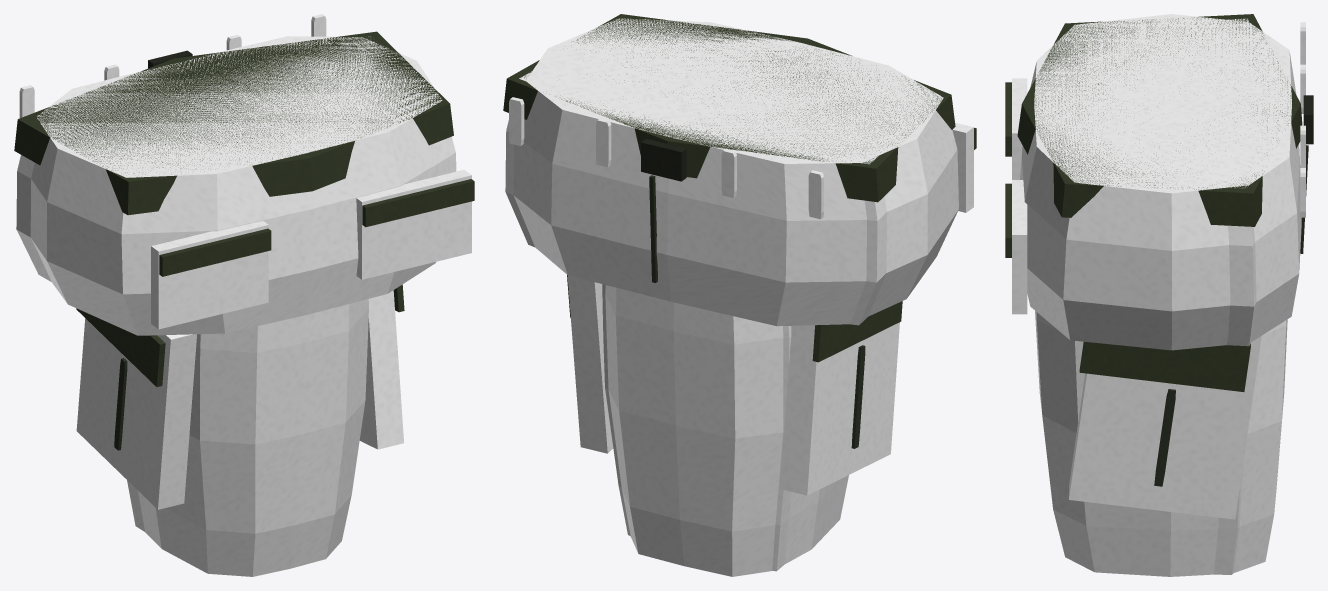
Rendered from trousers_acu.glb.
3 views of the same model, side by side, from view 1: azimuth 30°, elevation 25°; view 2: azimuth 150°, elevation 25°; view 3: azimuth 270°, elevation 25° (orthographic). The views are drawn at different scales.
Parts seen in each view (by area): view 1: trousers_acu_pelvis_LOD0_RAID_cloth.001, trousers_acu_thighL_LOD0_RAID_cloth.001, trousers_acu_pelvis_LOD0_RAID_reinforce.001, trousers_acu_pelvis_LOD1_RAID_cloth.001, trousers_acu_thighR_LOD1_RAID_cloth.001, trousers_acu_thighL_LOD1_RAID_cloth.001, trousers_acu_pelvis_LOD1_RAID_reinforce.001, trousers_acu_thighL_LOD0_RAID_reinforce.001, trousers_acu_thighR_LOD0_RAID_cloth.001, trousers_acu_thighL_LOD0_RAID_seam.001; view 2: trousers_acu_pelvis_LOD0_RAID_cloth.001, trousers_acu_thighL_LOD0_RAID_cloth.001, trousers_acu_pelvis_LOD1_RAID_cloth.001, trousers_acu_thighL_LOD1_RAID_cloth.001, trousers_acu_pelvis_LOD0_RAID_reinforce.001, trousers_acu_thighR_LOD0_RAID_cloth.001, trousers_acu_thighR_LOD1_RAID_cloth.001, trousers_acu_thighL_LOD1_RAID_reinforce.001, trousers_acu_pelvis_LOD0_RAID_zip.001, trousers_acu_pelvis_LOD1_RAID_zip.001, trousers_acu_thighL_LOD0_RAID_reinforce.001, trousers_acu_thighL_LOD0_RAID_seam.001 (+1 smaller); view 3: trousers_acu_pelvis_LOD0_RAID_cloth.001, trousers_acu_thighL_LOD0_RAID_cloth.001, trousers_acu_thighR_LOD0_RAID_cloth.001, trousers_acu_pelvis_LOD1_RAID_cloth.001, trousers_acu_pelvis_LOD0_RAID_reinforce.001, trousers_acu_thighR_LOD0_RAID_reinforce.001, trousers_acu_thighR_LOD1_RAID_cloth.001, trousers_acu_thighL_LOD1_RAID_cloth.001, trousers_acu_thighR_LOD0_RAID_seam.001, trousers_acu_pelvis_LOD1_RAID_reinforce.001, trousers_acu_thighR_LOD1_RAID_reinforce.001, trousers_acu_pelvis_LOD1_RAID_zip.001.
Boxes of the visible parts, x1,y1,x2,y2 form: trousers_acu_pelvis_LOD0_RAID_cloth.001: (19, 14, 471, 335); trousers_acu_thighL_LOD0_RAID_cloth.001: (78, 299, 368, 576); trousers_acu_pelvis_LOD0_RAID_reinforce.001: (14, 31, 474, 275); trousers_acu_pelvis_LOD1_RAID_cloth.001: (16, 36, 471, 329); trousers_acu_thighR_LOD1_RAID_cloth.001: (368, 290, 403, 449); trousers_acu_thighL_LOD1_RAID_cloth.001: (76, 334, 196, 531); trousers_acu_pelvis_LOD1_RAID_reinforce.001: (159, 179, 474, 276); trousers_acu_thighL_LOD0_RAID_reinforce.001: (85, 312, 165, 382); trousers_acu_thighR_LOD0_RAID_cloth.001: (359, 294, 401, 446); trousers_acu_thighL_LOD0_RAID_seam.001: (114, 358, 127, 450); trousers_acu_pelvis_LOD0_RAID_cloth.001: (509, 18, 973, 326); trousers_acu_thighL_LOD0_RAID_cloth.001: (605, 285, 850, 576); trousers_acu_pelvis_LOD1_RAID_cloth.001: (505, 19, 973, 325); trousers_acu_thighL_LOD1_RAID_cloth.001: (602, 284, 899, 571); trousers_acu_pelvis_LOD0_RAID_reinforce.001: (503, 14, 976, 202); trousers_acu_thighR_LOD0_RAID_cloth.001: (568, 286, 613, 448); trousers_acu_thighR_LOD1_RAID_cloth.001: (567, 275, 612, 453); trousers_acu_thighL_LOD1_RAID_reinforce.001: (812, 301, 902, 362); trousers_acu_pelvis_LOD0_RAID_zip.001: (641, 140, 686, 180); trousers_acu_pelvis_LOD1_RAID_zip.001: (641, 139, 686, 181); trousers_acu_thighL_LOD0_RAID_reinforce.001: (813, 310, 901, 356); trousers_acu_thighL_LOD0_RAID_seam.001: (851, 345, 865, 448); trousers_acu_pelvis_LOD0_RAID_cloth.001: (1012, 14, 1305, 350); trousers_acu_thighL_LOD0_RAID_cloth.001: (1035, 311, 1287, 576); trousers_acu_thighR_LOD0_RAID_cloth.001: (1072, 342, 1259, 518); trousers_acu_pelvis_LOD1_RAID_cloth.001: (1012, 18, 1282, 346); trousers_acu_pelvis_LOD0_RAID_reinforce.001: (1005, 14, 1302, 255); trousers_acu_thighR_LOD0_RAID_reinforce.001: (1080, 341, 1250, 390); trousers_acu_thighR_LOD1_RAID_cloth.001: (1069, 336, 1261, 519); trousers_acu_thighL_LOD1_RAID_cloth.001: (1214, 467, 1242, 574); trousers_acu_thighR_LOD0_RAID_seam.001: (1154, 389, 1175, 486); trousers_acu_pelvis_LOD1_RAID_reinforce.001: (1005, 82, 1011, 257); trousers_acu_thighR_LOD1_RAID_reinforce.001: (1079, 342, 1250, 391); trousers_acu_pelvis_LOD1_RAID_zip.001: (1303, 95, 1313, 144).
Bounding box in the file's own units: 0.404 × 0.438 × 0.2775.
Materials: 4 (4 with a texture image).
